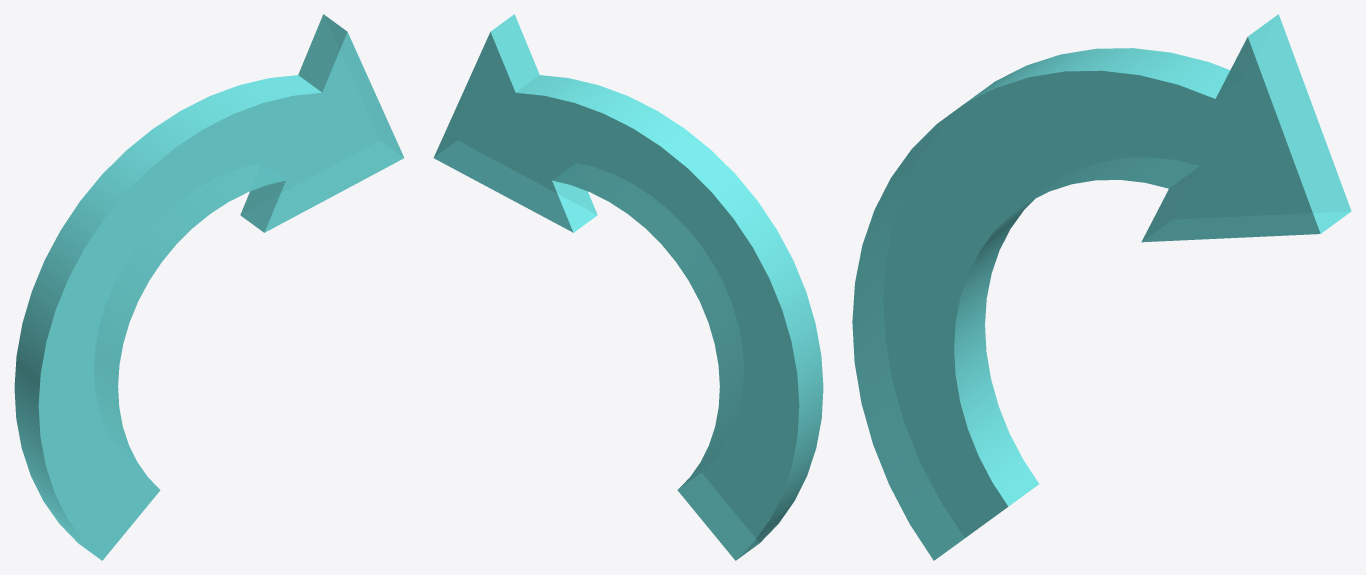
The model's file is arrow.fbx.
3 views of the same model, side by side, from view 1: azimuth 30°, elevation 25°; view 2: azimuth 150°, elevation 25°; view 3: azimuth 330°, elevation 25° (orthographic). The views are drawn at different scales.
Visible parts, largest first — view 1: Material2; view 2: Material2; view 3: Material2.
Part boxes in pixels (bbox=[...]): Material2: bbox=[14, 14, 404, 560]; Material2: bbox=[433, 14, 823, 560]; Material2: bbox=[852, 14, 1351, 560].
Bounding box in the file's own units: 1842 × 2258 × 211.
